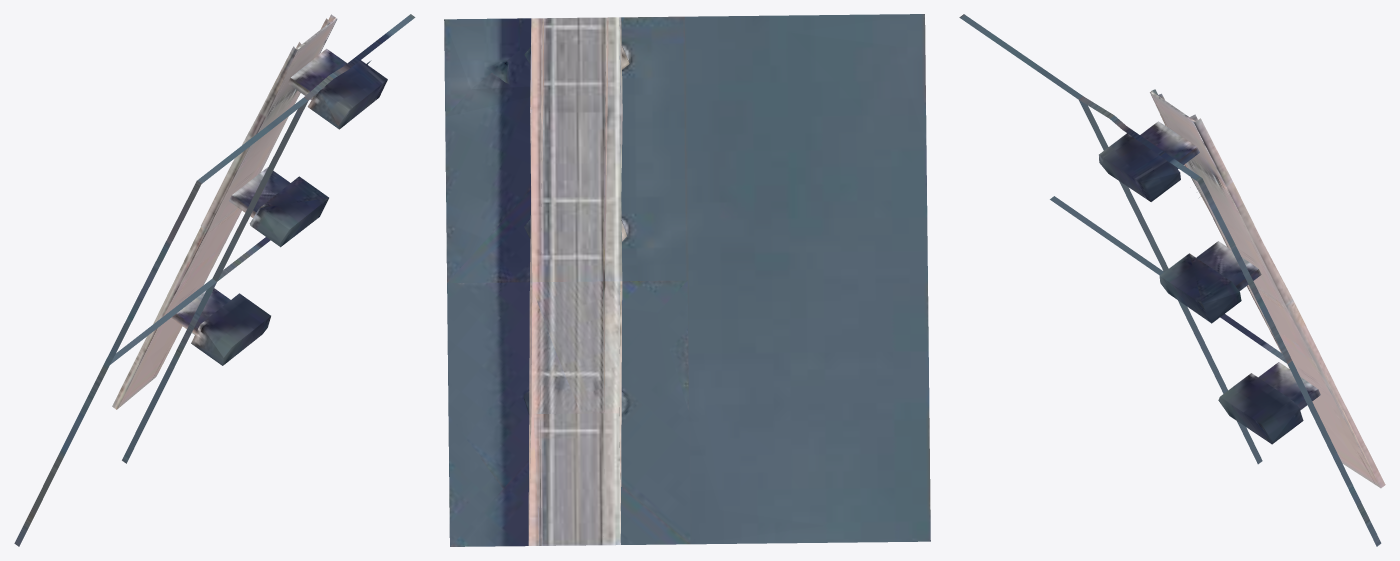
3 views of the same model, side by side, from view 1: azimuth 30°, elevation 25°; view 2: azimuth 150°, elevation 25°; view 3: azimuth 270°, elevation 25° (orthographic). The views are drawn at different scales.
Size of the model in its own units: 153 by 146 by 130.
2 materials, 2 textured.
